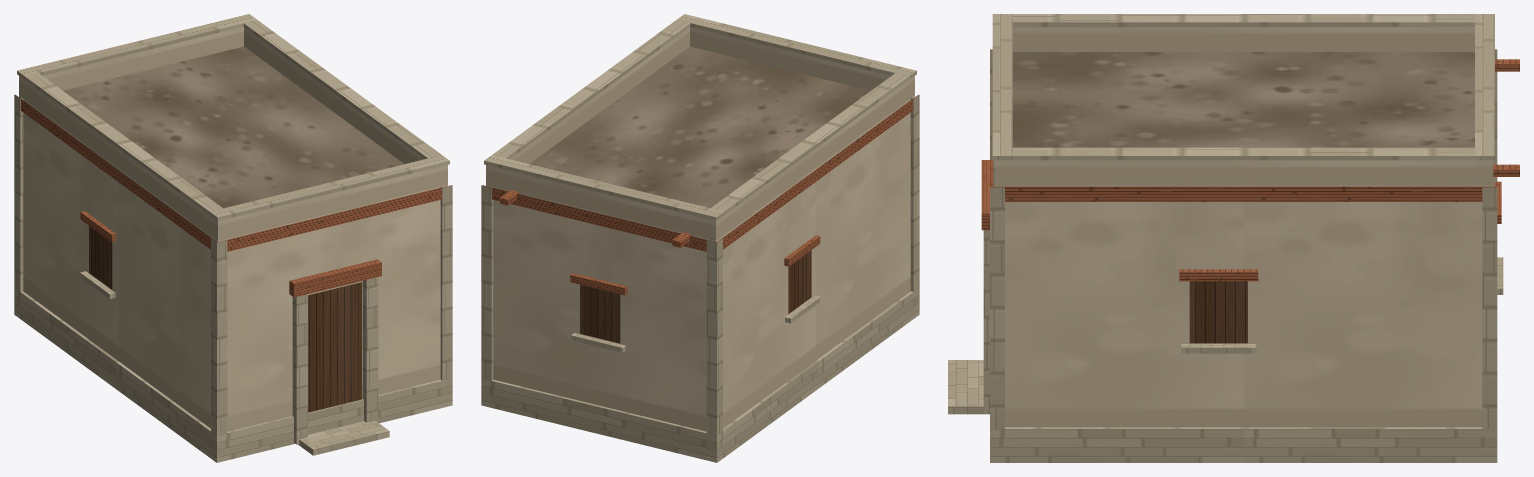
Rendered from ae_sand_stone_medium_block_lod0.glb.
3 views of the same model, side by side, from view 1: azimuth 30°, elevation 25°; view 2: azimuth 150°, elevation 25°; view 3: azimuth 270°, elevation 25° (orthographic). The views are drawn at different scales.
Visible parts, largest first — view 1: ae_sand_stone_medium_block_lod0; view 2: ae_sand_stone_medium_block_lod0; view 3: ae_sand_stone_medium_block_lod0.
Boxes of the visible parts, bbox=[...] form: ae_sand_stone_medium_block_lod0: bbox=[14, 14, 452, 462]; ae_sand_stone_medium_block_lod0: bbox=[481, 14, 919, 462]; ae_sand_stone_medium_block_lod0: bbox=[948, 14, 1519, 462].
Size of the model in its own units: 4.24 by 4.06 by 6.88.
1 material, 1 textured.
